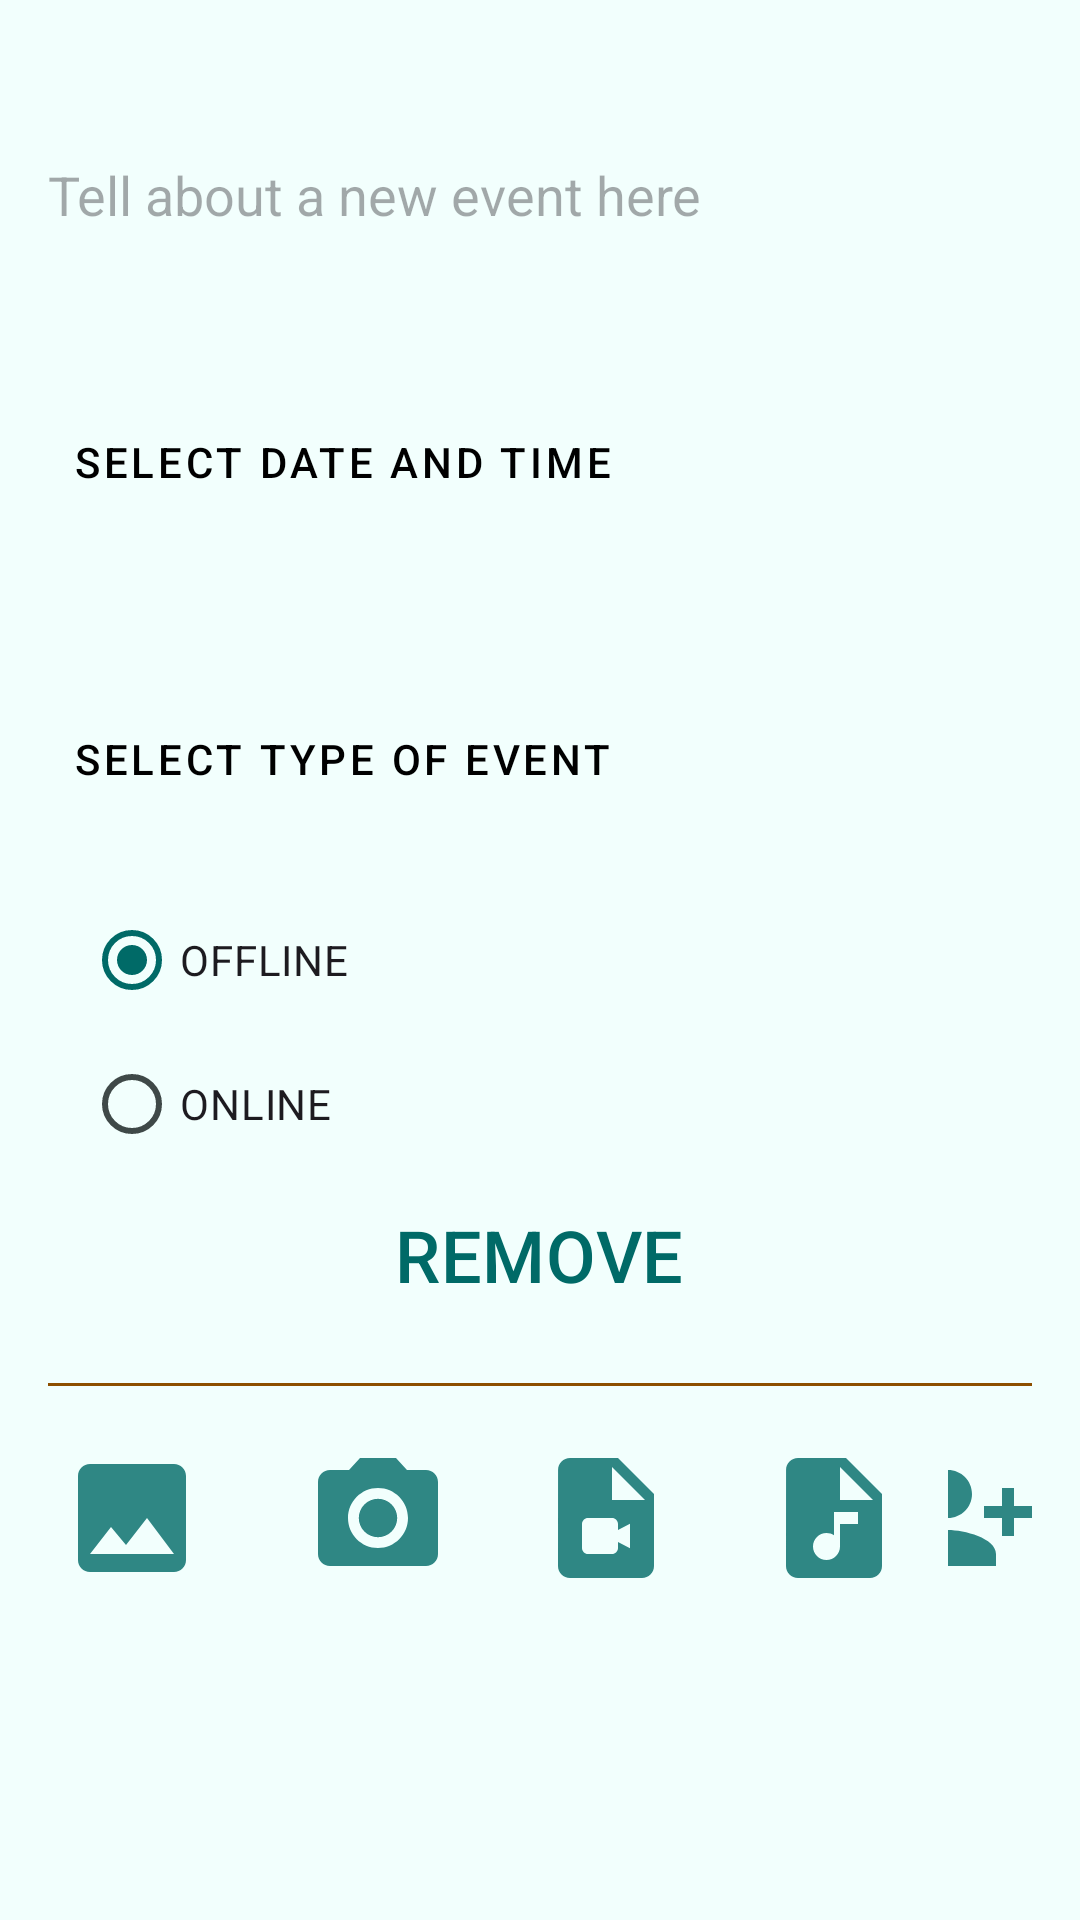

Icon click points for this 1080w x 1920h phone screenshot, format point (x, y):
Add audio: point (834, 1518)
Add video: point (606, 1518)
Select photo please: point (132, 1518)
Take photo please: point (378, 1512)
